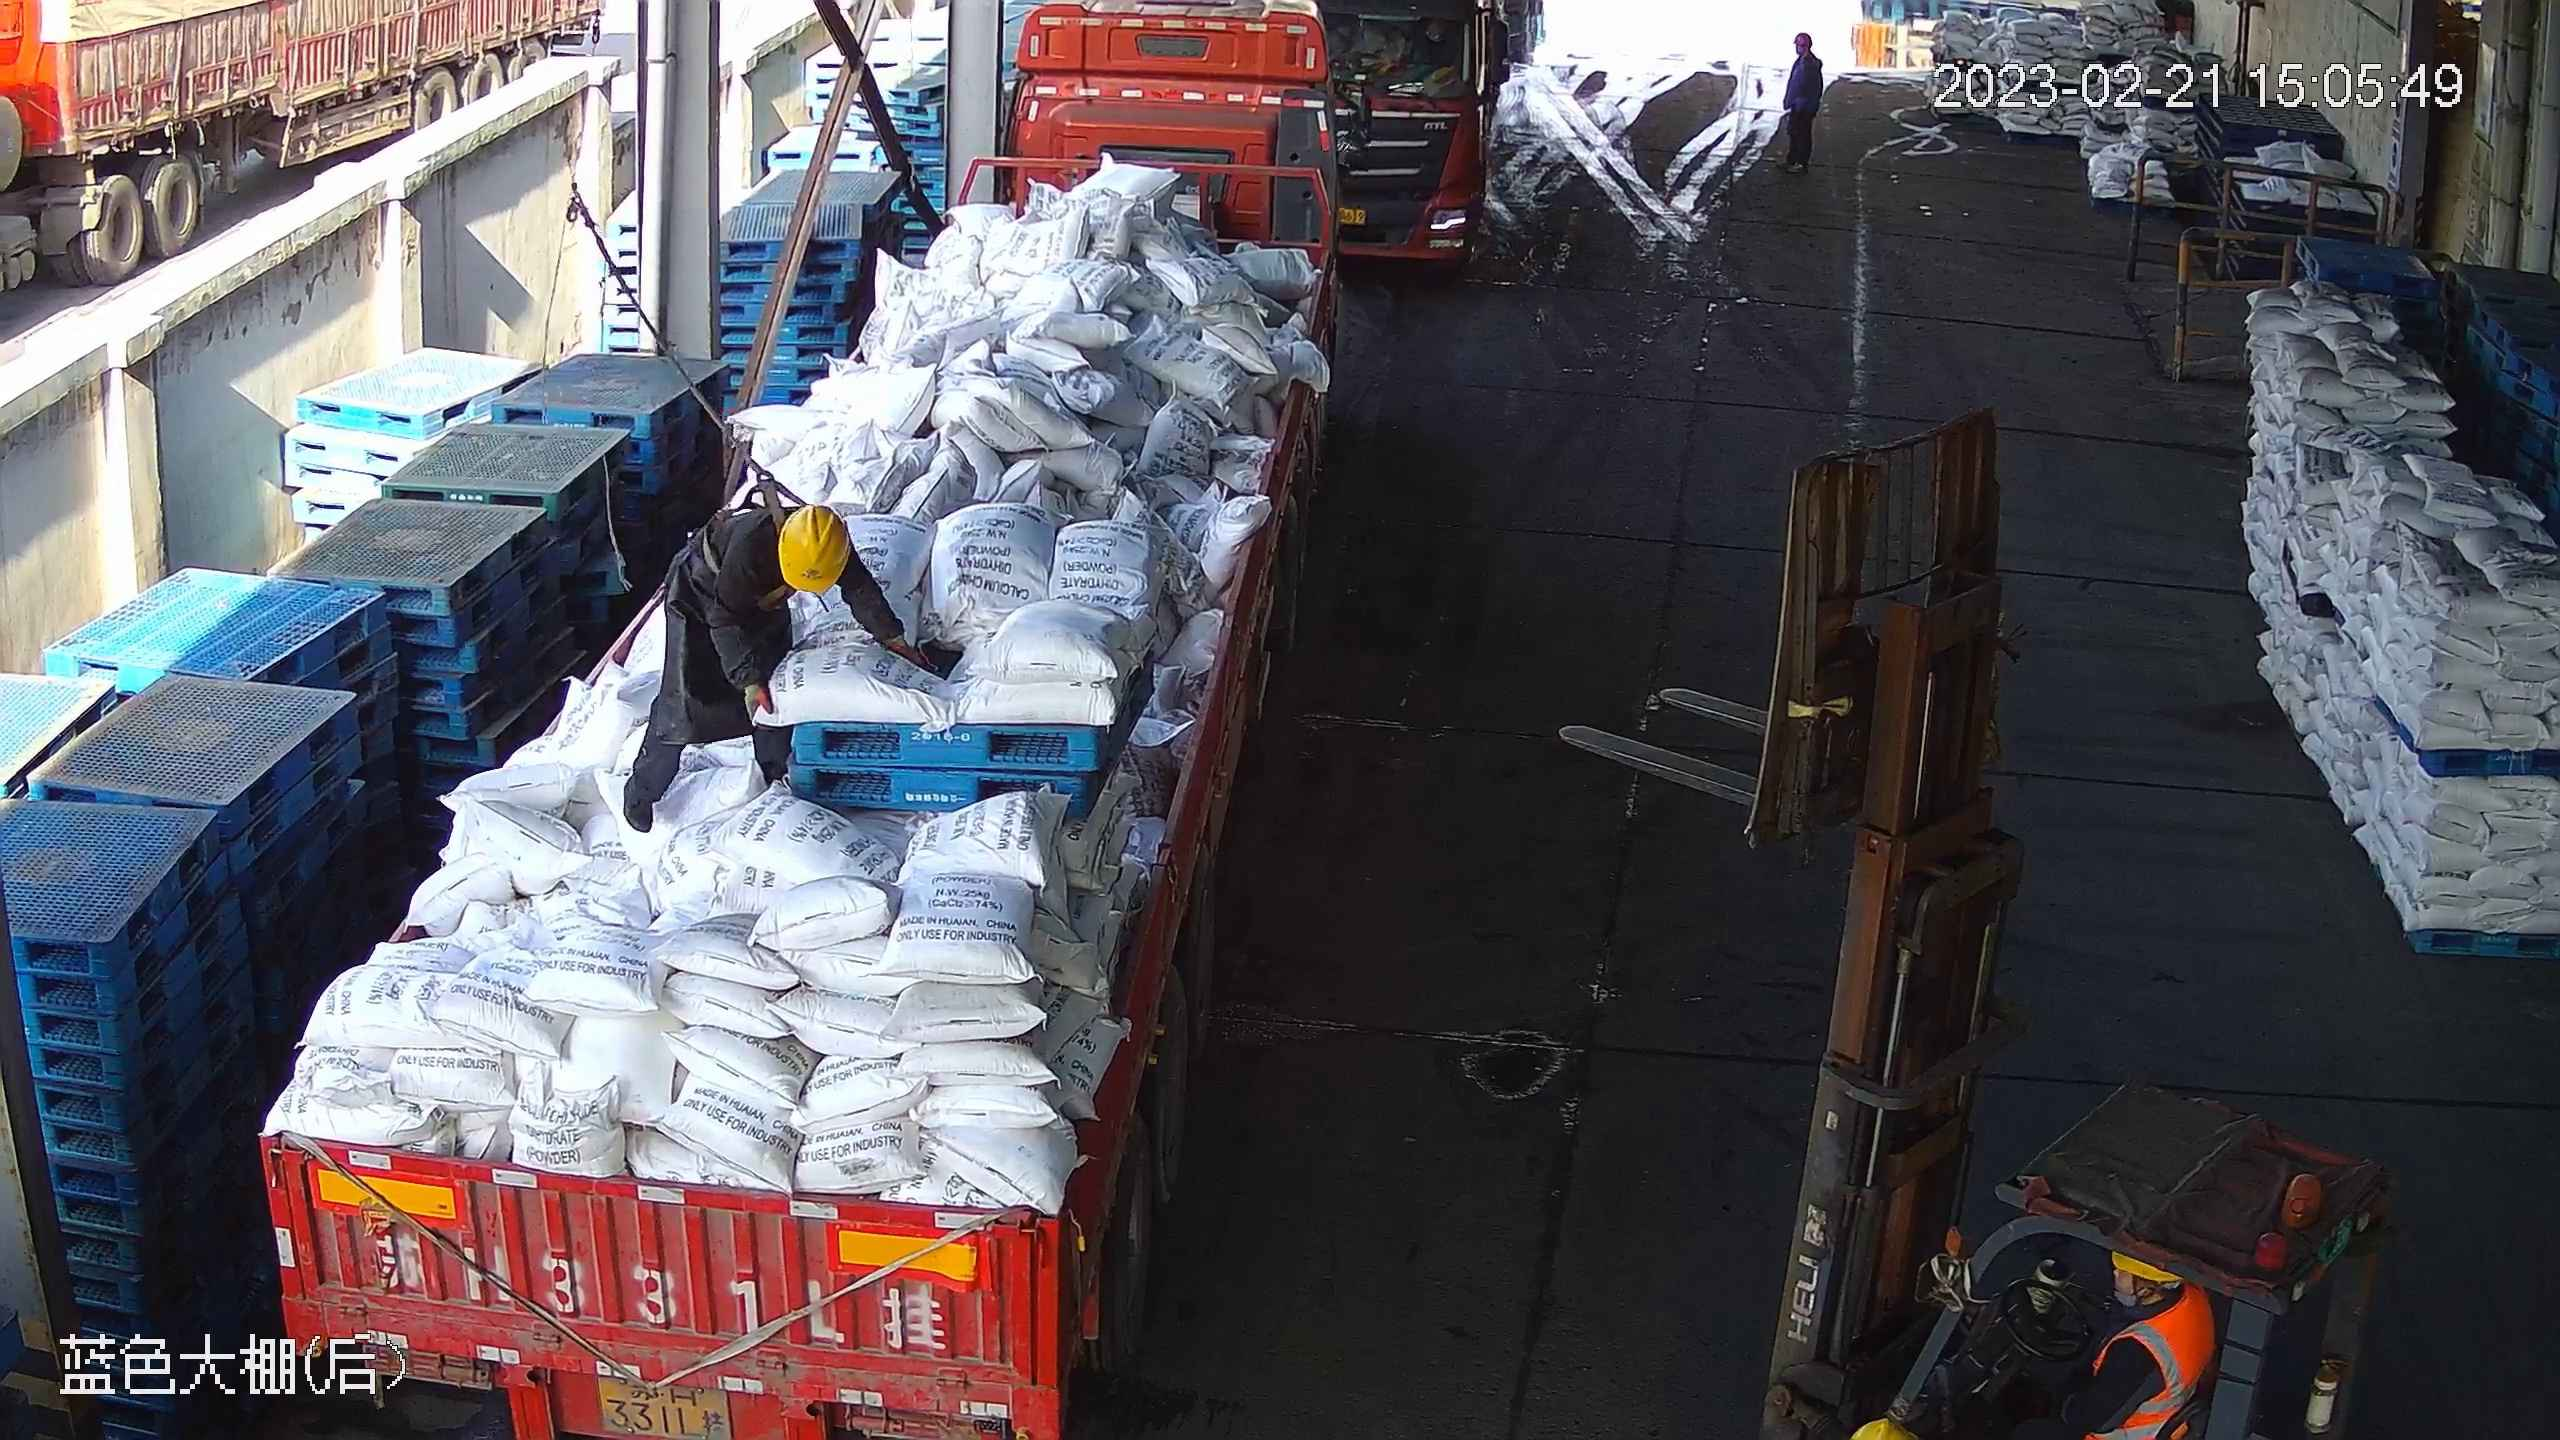belt: (693, 451, 794, 579)
head: (716, 502, 861, 628), (1781, 32, 1820, 81)
helmet: (778, 505, 852, 593), (1794, 32, 1810, 44)
people: (621, 502, 923, 835), (1776, 32, 1822, 174)
truck: (253, 1, 1377, 1434), (1316, 1, 1556, 279)
